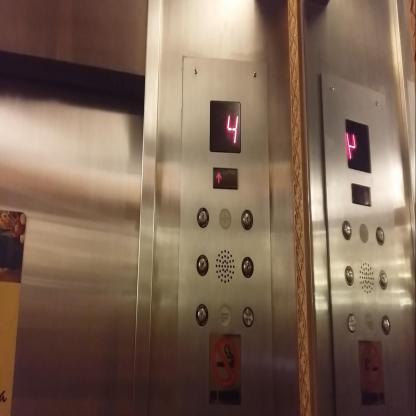keyhole: (240, 207, 254, 231), (240, 254, 254, 278), (195, 253, 209, 277), (373, 224, 387, 248), (342, 263, 356, 287), (196, 205, 209, 229), (195, 302, 208, 326), (340, 218, 353, 242), (376, 268, 389, 292), (379, 312, 392, 336)
led: (208, 97, 243, 155), (344, 116, 372, 176), (211, 165, 238, 191), (350, 180, 372, 209)
text_blur: (345, 311, 359, 334), (241, 305, 254, 328)
